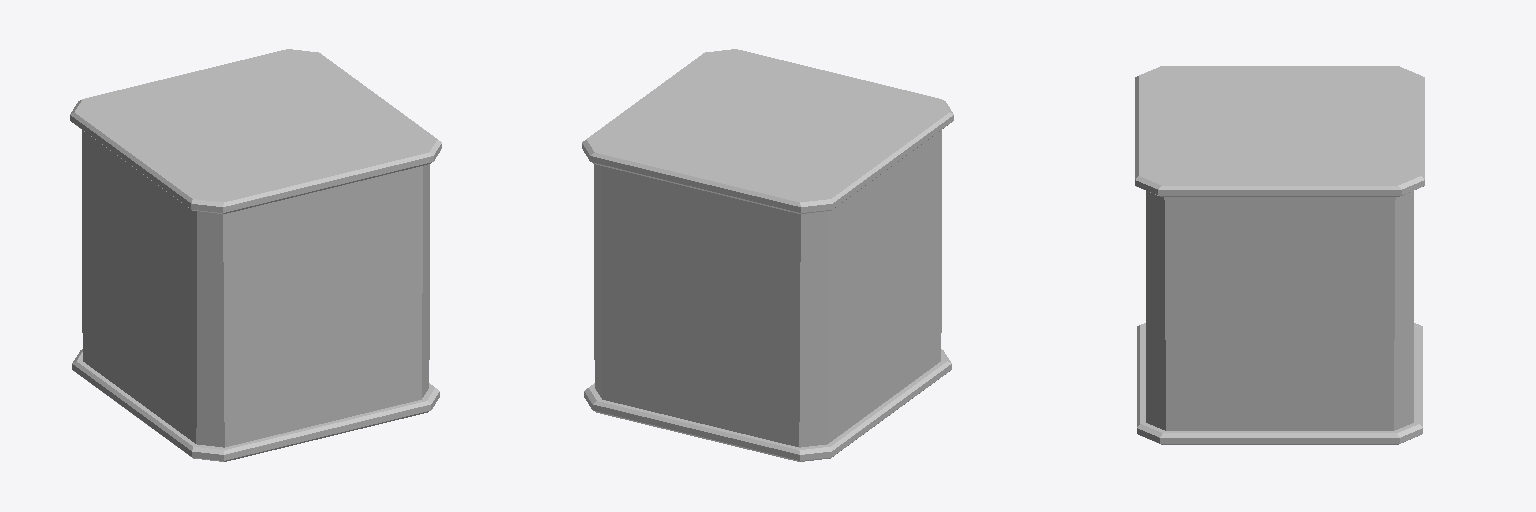
File: pillar-4.obj
3 renders of one model, left to right at view 1: azimuth 30°, elevation 25°; view 2: azimuth 150°, elevation 25°; view 3: azimuth 270°, elevation 25°, orthographic.
Parts seen in each view (by area): view 1: cube_5; view 2: cube_5; view 3: cube_5.
Boxes of the visible parts, x1=… form: cube_5: x1=70, y1=49, x2=441, y2=461; cube_5: x1=582, y1=49, x2=953, y2=461; cube_5: x1=1135, y1=66, x2=1424, y2=444.
Bounding box in the file's own units: 1.05 × 1.05 × 1.05.